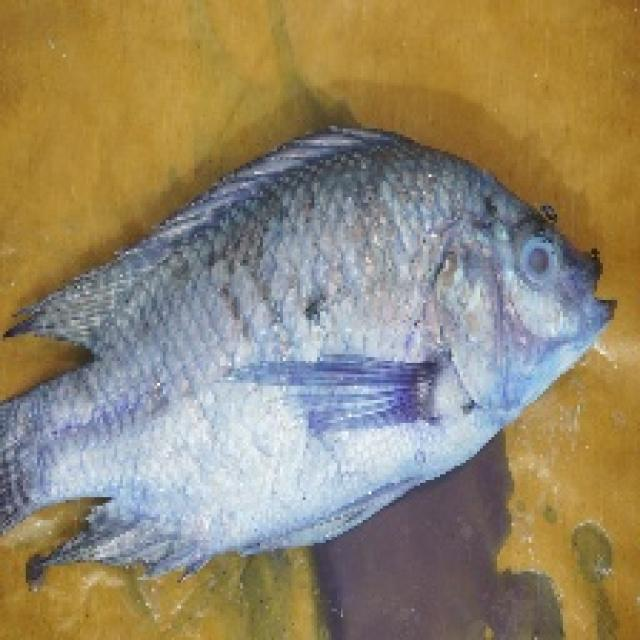Non-Fresh: (480, 208, 608, 342)
